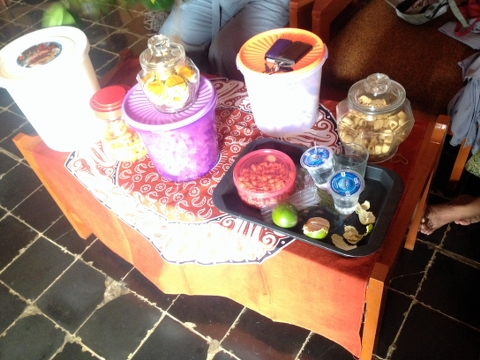meja: (10, 48, 451, 360)
tempat minum: (327, 169, 364, 216), (333, 142, 369, 180)
